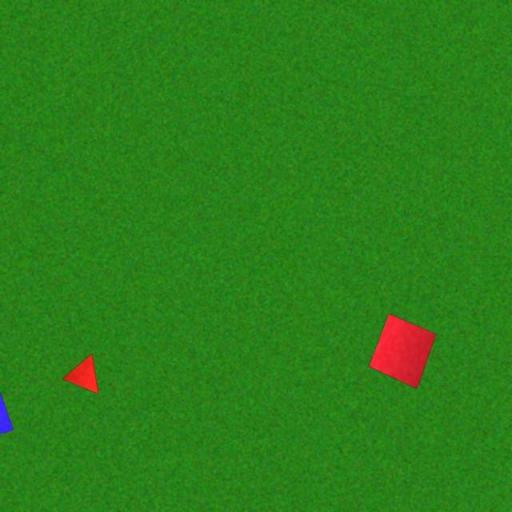RED_SQUARE: (367, 312, 437, 390)
